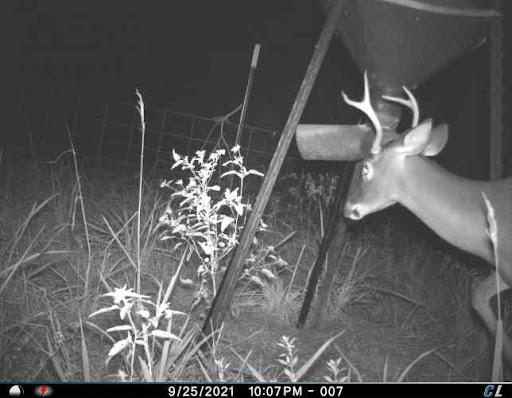Deer: (340, 66, 512, 369)
